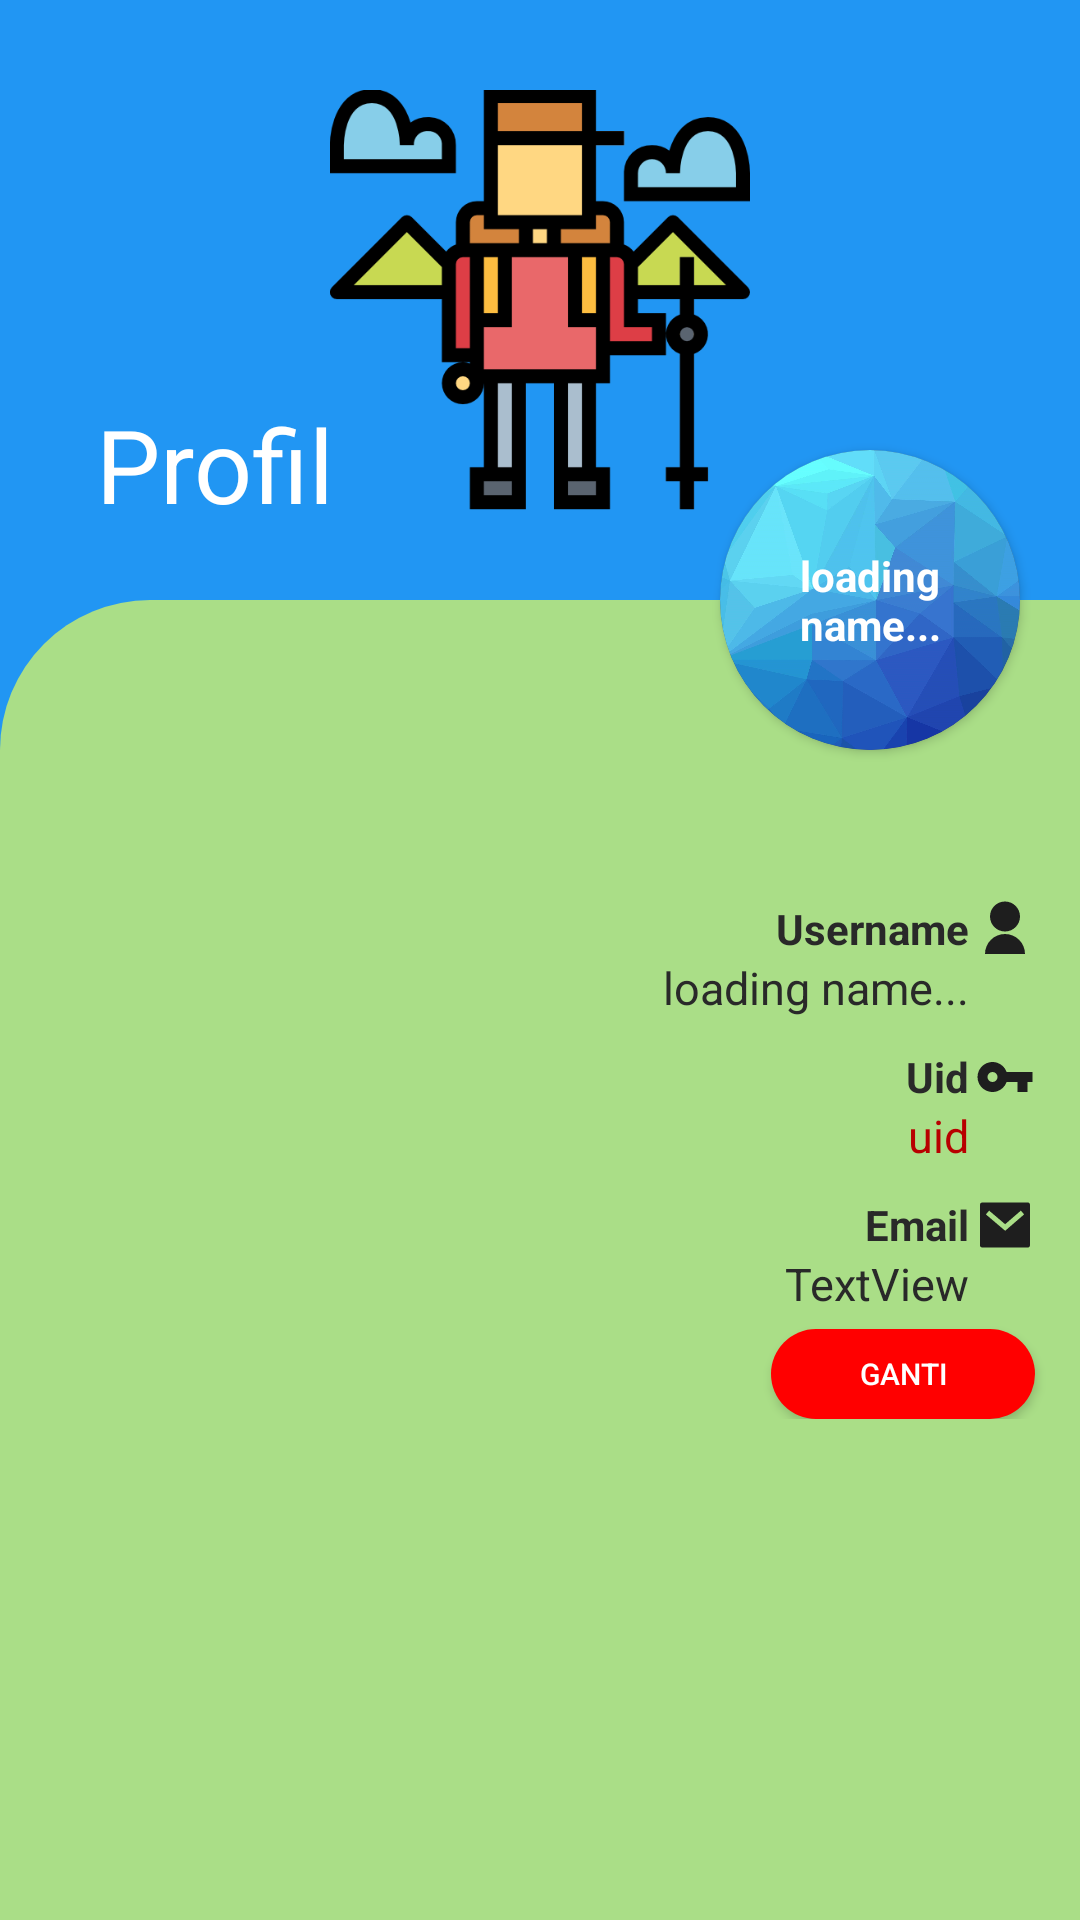

Where to tap for icons on this 1080px x 1920px app screen, as point (x, y):
key: point (1005, 1077)
polygon: point (870, 600)
